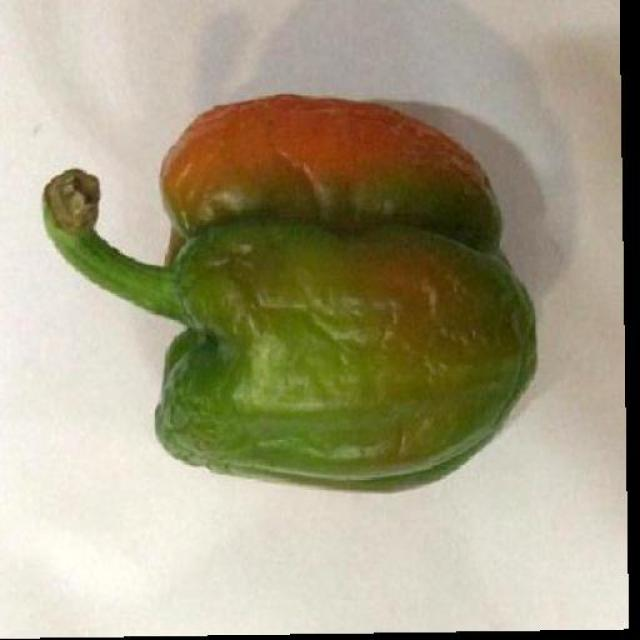Stale_Capsicum: (72, 109, 522, 469)
